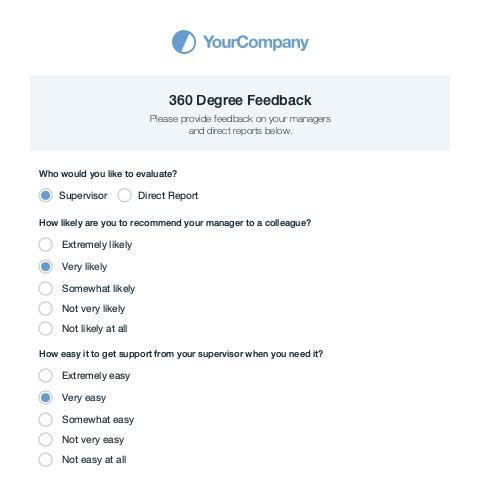label: (58, 451, 135, 470), (62, 410, 139, 427), (62, 281, 138, 298), (60, 432, 131, 448), (60, 322, 134, 337), (61, 239, 136, 253), (60, 370, 134, 384), (139, 189, 206, 204), (58, 189, 111, 205), (62, 304, 131, 316), (60, 260, 115, 274), (62, 393, 110, 404)
radio: (37, 259, 56, 276), (37, 281, 55, 298), (38, 320, 55, 338), (38, 301, 55, 318), (37, 238, 56, 253), (39, 368, 55, 385), (39, 412, 56, 428), (39, 391, 57, 406), (39, 432, 55, 448), (38, 453, 55, 468), (116, 189, 135, 202), (38, 189, 54, 203)
